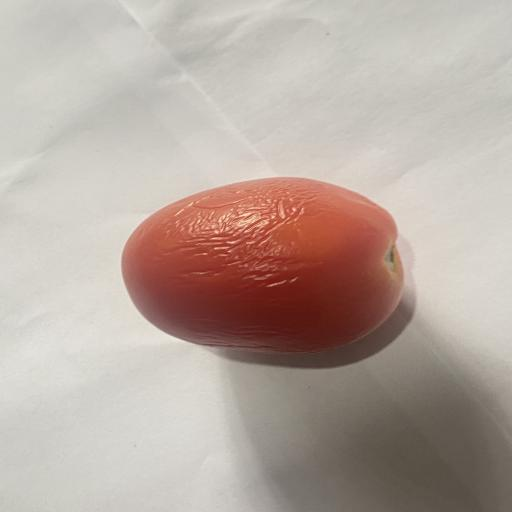spoiled: (122, 177, 403, 353)
